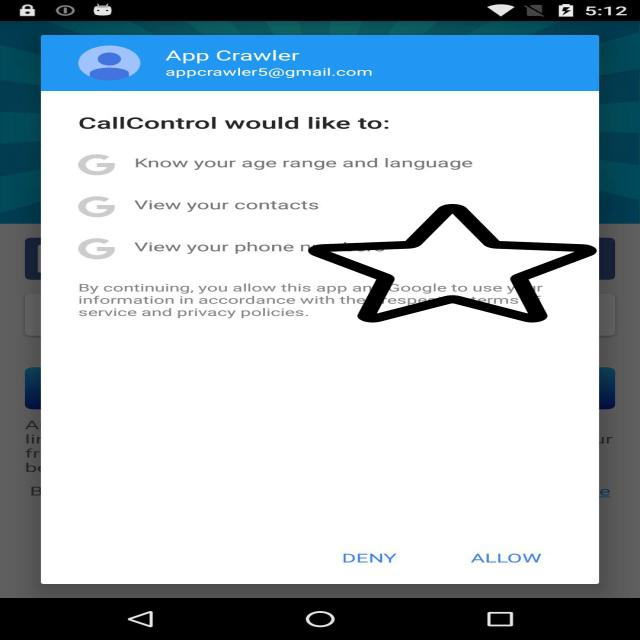forced continuity: (308, 201, 597, 325)
